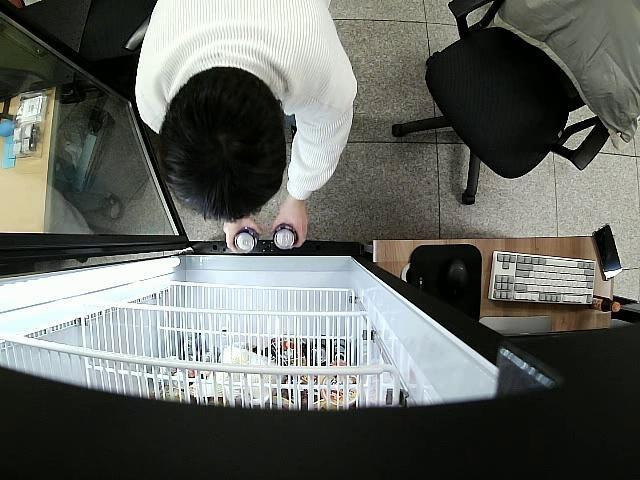14_welchsGrape: (272, 224, 299, 251), (233, 229, 260, 254)
